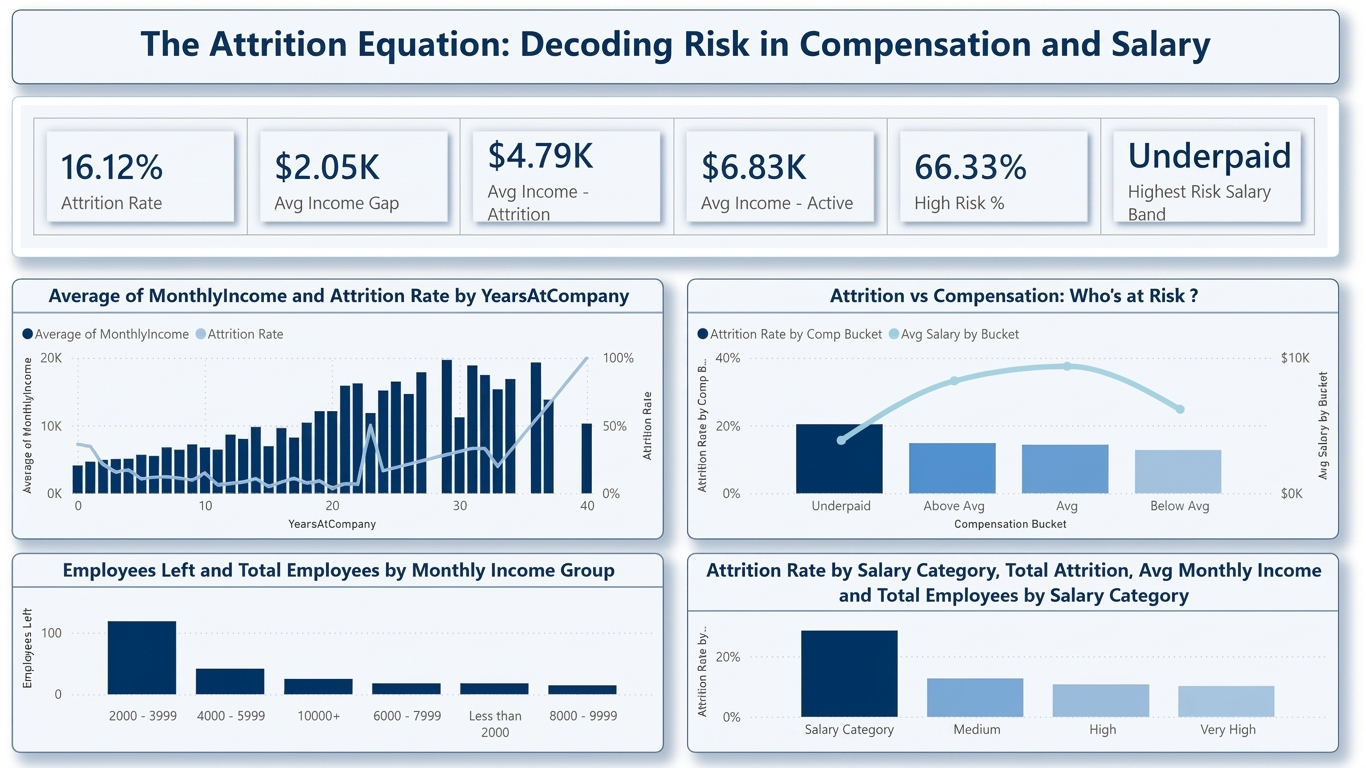

The dashboard page shown, as its layout file describes it:
{"tool":"powerbi","page":{"name":"Compensation Impact on Attrition","canvas":[1280,720],"ordinal":3},"visuals":[{"type":"lineClusteredColumnComboChart","title":"Attrition vs Compensation: Who’s at Risk ?","fields":{"Category":["HrData.Compensation Bucket"],"Y":["_calculations.Attrition Rate by Comp Bucket"],"Y2":["_calculations.Avg Salary by Bucket"]},"box":[647,261.6,608,243.5],"z":0},{"type":"clusteredColumnChart","fields":{"Category":["HrData.Salary Category"],"Y":["_calculations.Attrition Rate by Salary Category"]},"box":[647,517.6,608,186.4],"z":1000},{"type":"lineStackedColumnComboChart","fields":{"Category":["HrData.YearsAtCompany"],"Y":["Avg(HrData.MonthlyIncome)"],"Y2":["_calculations.Attrition Rate"]},"box":[16.7,261.6,608,243.5],"z":2000},{"type":"clusteredColumnChart","fields":{"Category":["WA_Fn-UseC_-HR-Employee-Attrition.Monthly Income Group"],"Y":["_calculations.Employees Left"]},"box":[16.7,517.6,608,186.4],"z":3000},{"type":"textbox","box":[16.7,11.1,1238.3,69.6],"z":4000},{"type":"cardVisual","fields":{"Data":["_calculations.Attrition Rate","_calculations.ِِAvg Income Gap","_calculations.Avg Income - Attrition","_calculations.Avg Income - Active","_calculations.High Risk %","_calculations.Highest Risk Salary Band"]},"box":[16.7,91.8,1238.3,150.3],"z":5000}]}

Visuals, with their boxes in screenshot pixels (x1, y1, x2, y2), scaled from the page's 1280x720 canvas onto the 1366x768 screenshot:
"Attrition vs Compensation: Who’s at Risk ?" lineClusteredColumnComboChart: [690, 279, 1339, 539]
clusteredColumnChart - HrData.Salary Category x _calculations.Attrition Rate by Salary Category: [690, 552, 1339, 751]
lineStackedColumnComboChart - HrData.YearsAtCompany x Avg(HrData.MonthlyIncome): [18, 279, 667, 539]
clusteredColumnChart - WA_Fn-UseC_-HR-Employee-Attrition.Monthly Income Group x _calculations.Employees Left: [18, 552, 667, 751]
textbox: [18, 12, 1339, 86]
cardVisual - _calculations.Attrition Rate x _calculations.ِِAvg Income Gap: [18, 98, 1339, 258]
